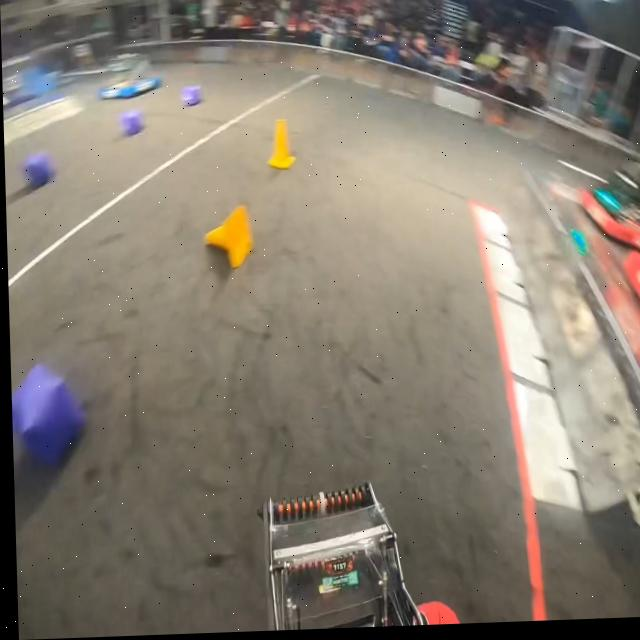robot: (579, 155, 640, 255), (97, 52, 162, 103), (622, 254, 640, 324)
